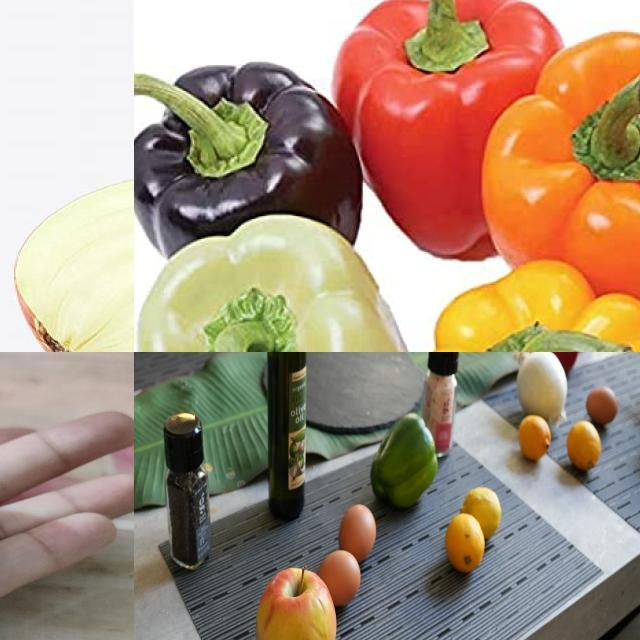bell_pepper: (340, 1, 570, 268), (135, 56, 365, 274), (482, 31, 640, 336), (145, 221, 421, 353), (401, 259, 640, 353), (160, 412, 212, 576), (369, 414, 445, 514), (533, 353, 581, 377)
egg: (315, 551, 361, 611), (339, 505, 377, 561), (583, 384, 620, 430)
onion: (10, 173, 135, 353), (512, 353, 572, 430)
